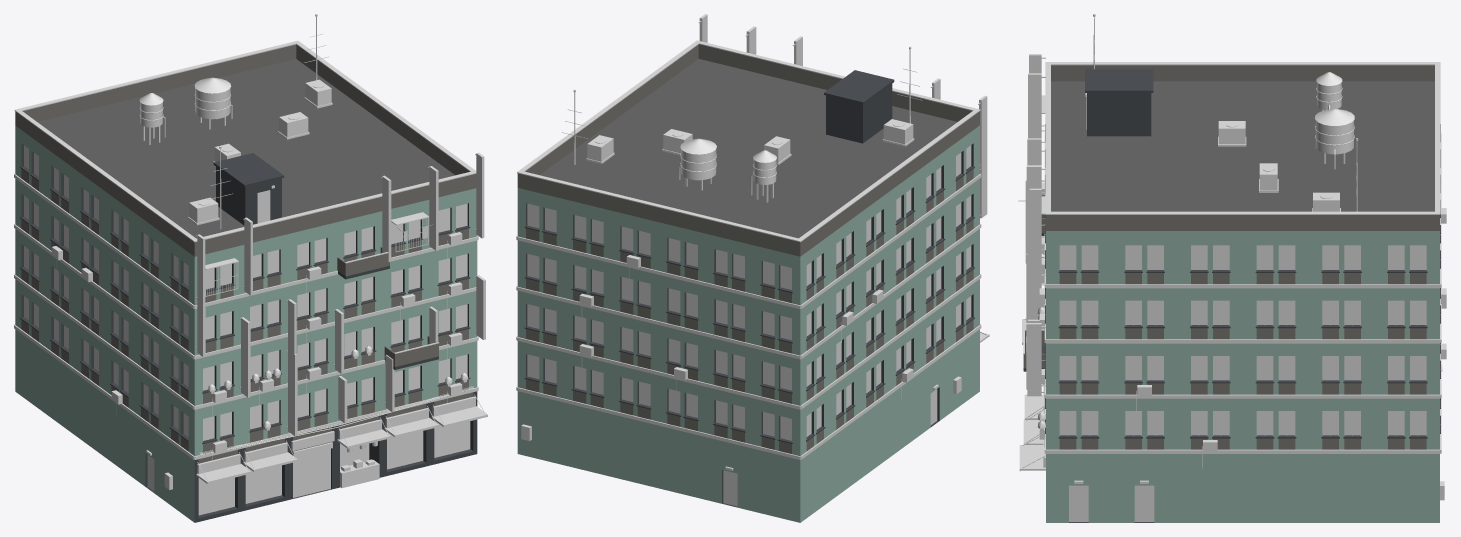
File: Plaza_Block_01.fbx
3 renders of one model, left to right at view 1: azimuth 30°, elevation 25°; view 2: azimuth 150°, elevation 25°; view 3: azimuth 270°, elevation 25°, orthographic. The views are drawn at different scales.
Visible parts, largest first — view 1: Plaza_Block_01_LOD0; view 2: Plaza_Block_01_LOD0; view 3: Plaza_Block_01_LOD0.
Boxes of the visible parts, left/top/right/bottom form: Plaza_Block_01_LOD0: left=14, top=14, right=487, bottom=522; Plaza_Block_01_LOD0: left=516, top=14, right=989, bottom=522; Plaza_Block_01_LOD0: left=1018, top=14, right=1446, bottom=522.
Size of what is drawn, in the model's own units: 20.73 by 23.59 by 23.91.
